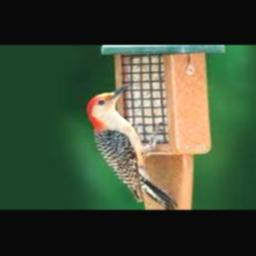Woodpecker: (87, 83, 177, 208)
